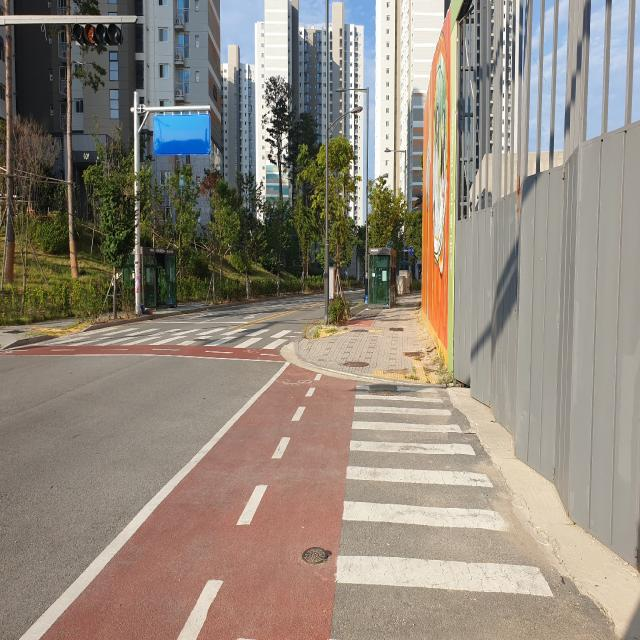횡단보도: (332, 382, 557, 602), (72, 316, 296, 351)
